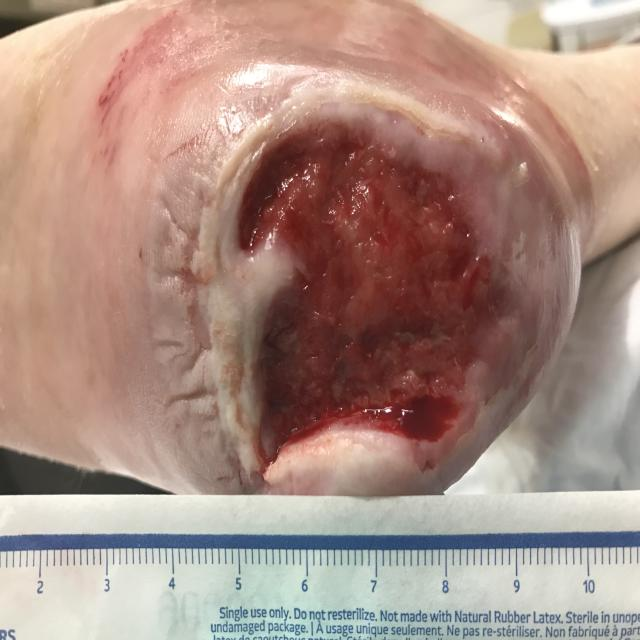stage-3: (239, 120, 505, 462)
